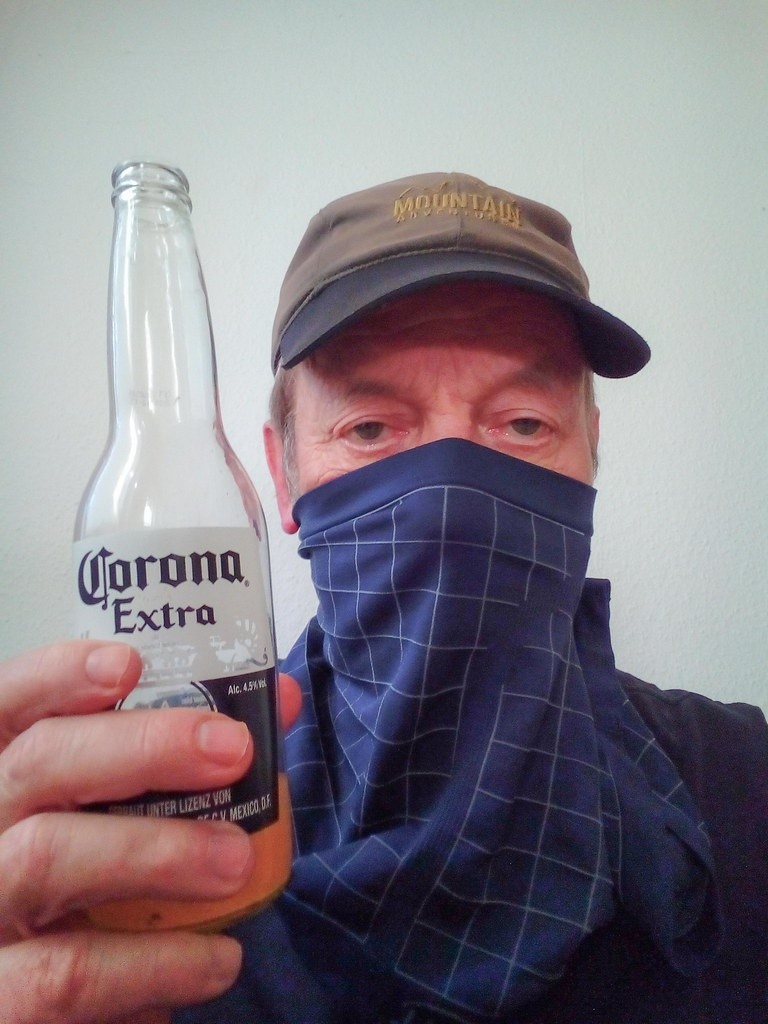face_with_mask: (282, 189, 605, 668)
